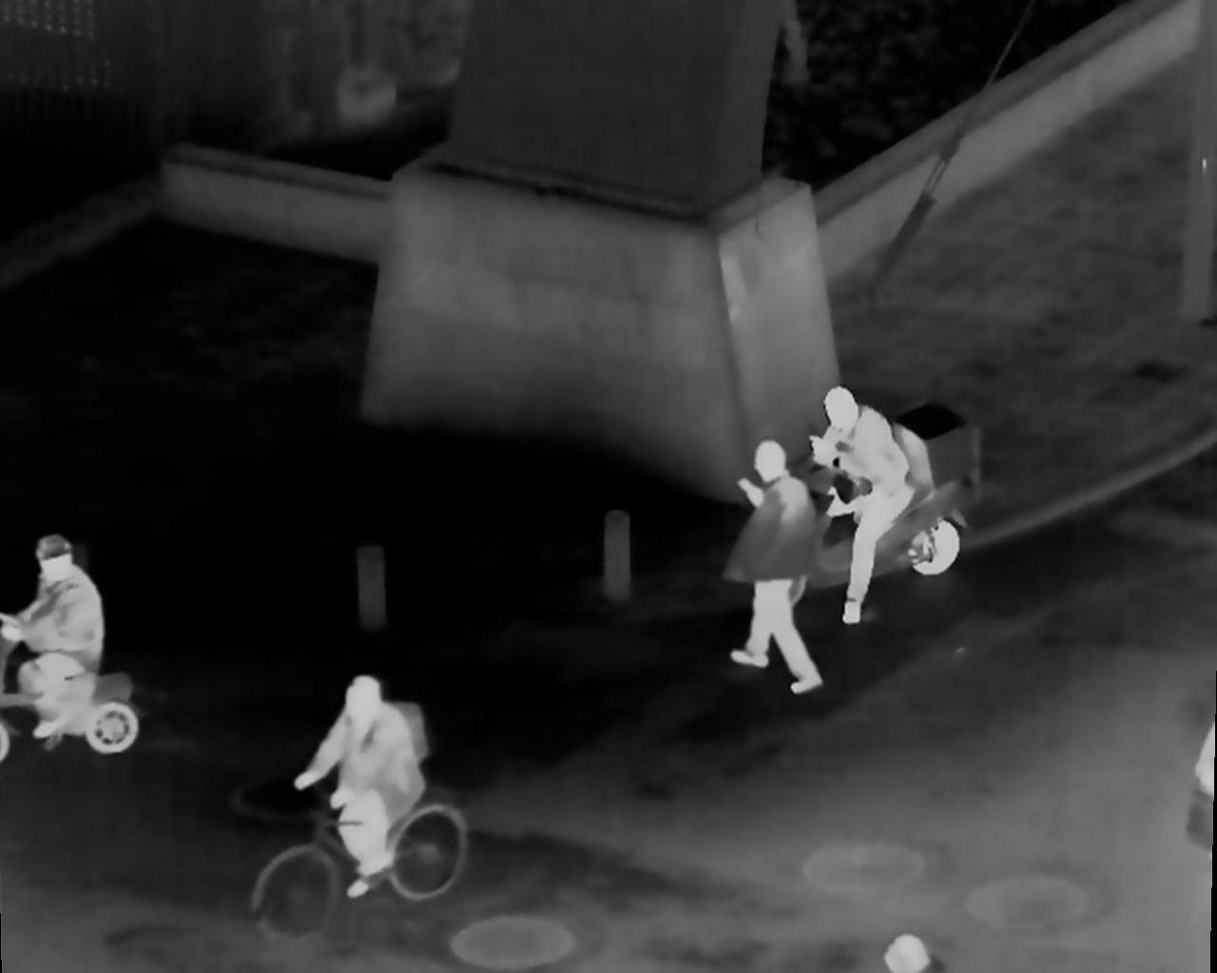person: (809, 378, 918, 633), (299, 675, 433, 858), (738, 430, 828, 687), (12, 529, 98, 755)
